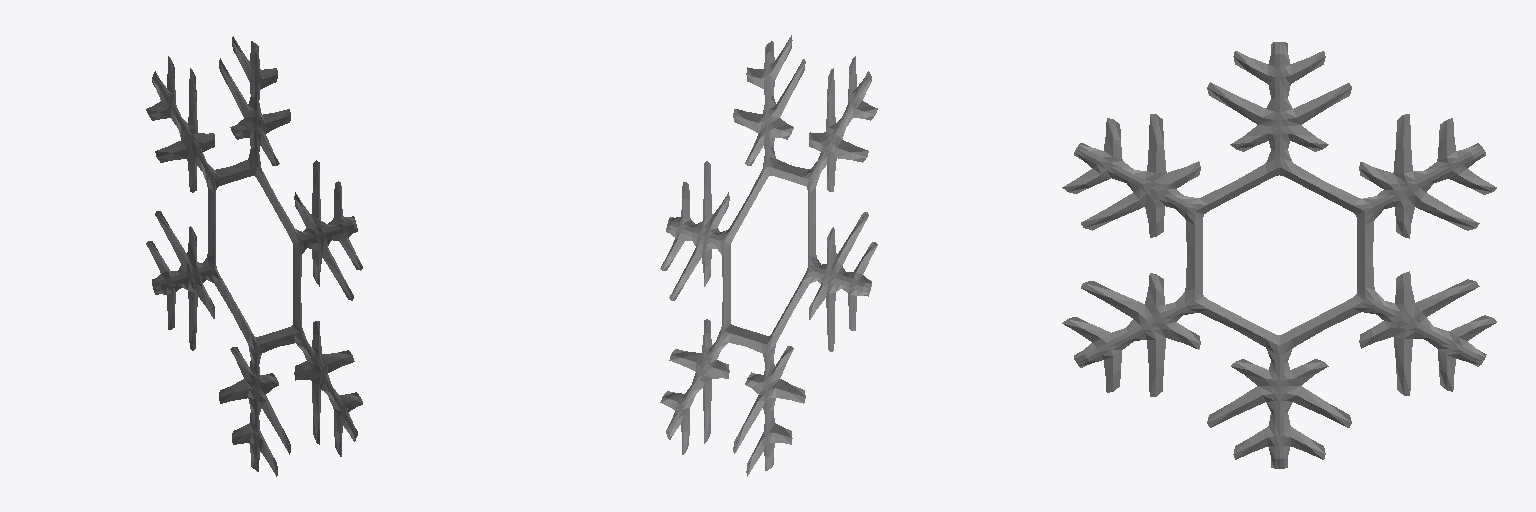
The model's file is Snowflake3.obj.
3 views of the same model, side by side, from view 1: azimuth 30°, elevation 25°; view 2: azimuth 150°, elevation 25°; view 3: azimuth 270°, elevation 25° (orthographic).
Parts seen in each view (by area): view 1: Plane.007_Plane.002; view 2: Plane.007_Plane.002; view 3: Plane.007_Plane.002.
Boxes of the visible parts, <box> form: Plane.007_Plane.002: <box>146,36,362,476</box>; Plane.007_Plane.002: <box>660,35,877,476</box>; Plane.007_Plane.002: <box>1062,42,1496,468</box>.
Bounding box in the file's own units: 0.0034 × 0.5624 × 0.5205.